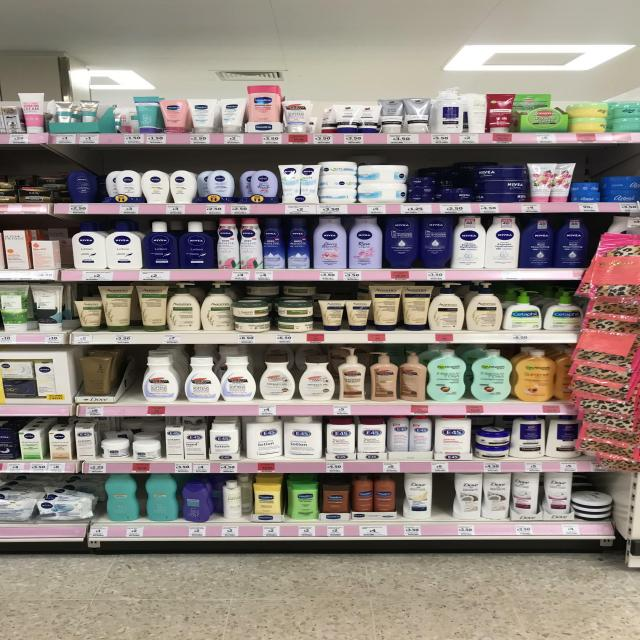empty: (122, 351, 140, 401), (434, 474, 452, 518)
